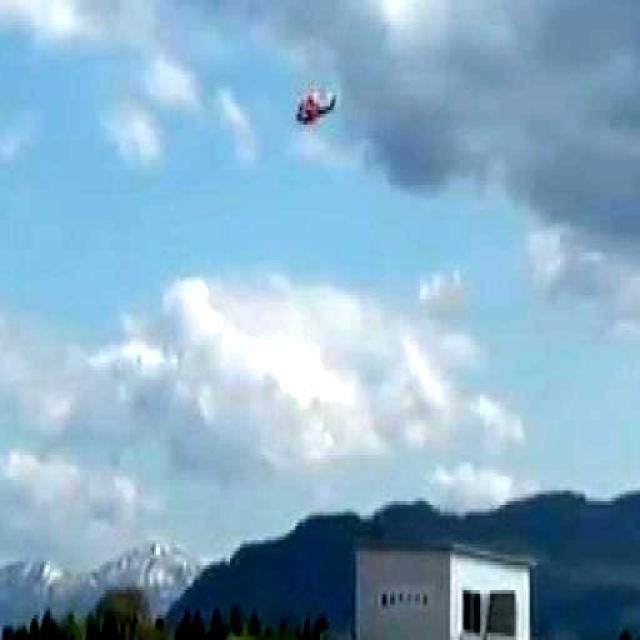drone: (284, 81, 344, 140)
